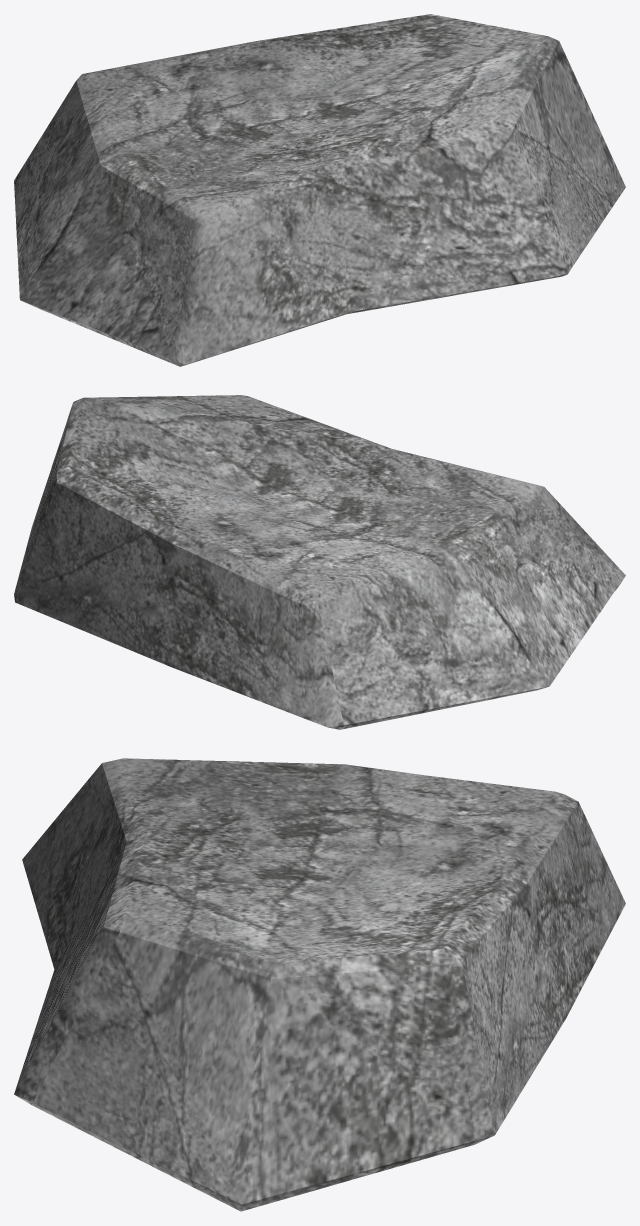
Rendered from materials_3_rubblek_6.fbx.
3 renders of one model, top to bottom at view 1: azimuth 30°, elevation 25°; view 2: azimuth 150°, elevation 25°; view 3: azimuth 270°, elevation 25°, orthographic. The views are drawn at different scales.
Parts seen in each view (by area): view 1: materials_3_rubblek_6; view 2: materials_3_rubblek_6; view 3: materials_3_rubblek_6.
Part boxes in pixels (x1,y1,x2,y2): materials_3_rubblek_6: [14, 14, 625, 366]; materials_3_rubblek_6: [14, 395, 625, 729]; materials_3_rubblek_6: [14, 758, 625, 1211].
Bounding box in the file's own units: 72.73 × 20.4 × 53.21.
